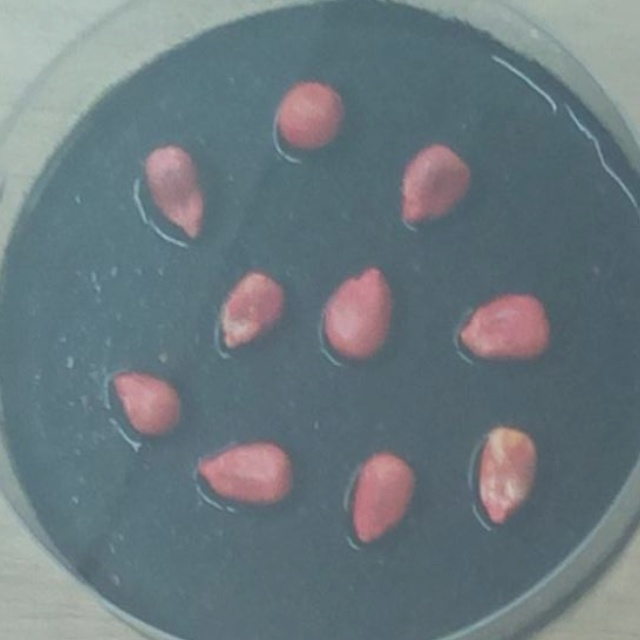Zea mays: (312, 257, 402, 371), (449, 284, 560, 376), (127, 138, 214, 253), (187, 432, 302, 517), (466, 418, 546, 540), (207, 263, 295, 364), (344, 446, 424, 555), (391, 135, 479, 234), (102, 363, 188, 449), (269, 73, 352, 159)
